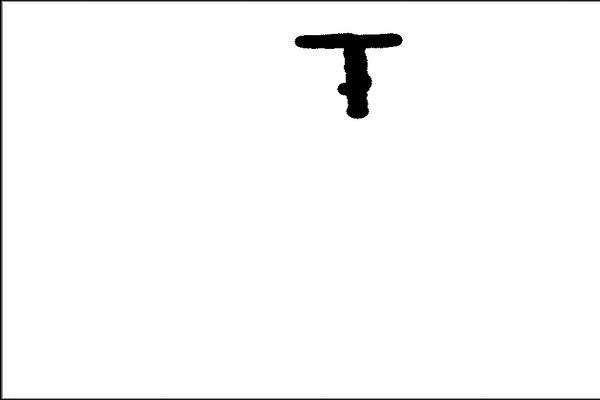T: (288, 24, 412, 124)
